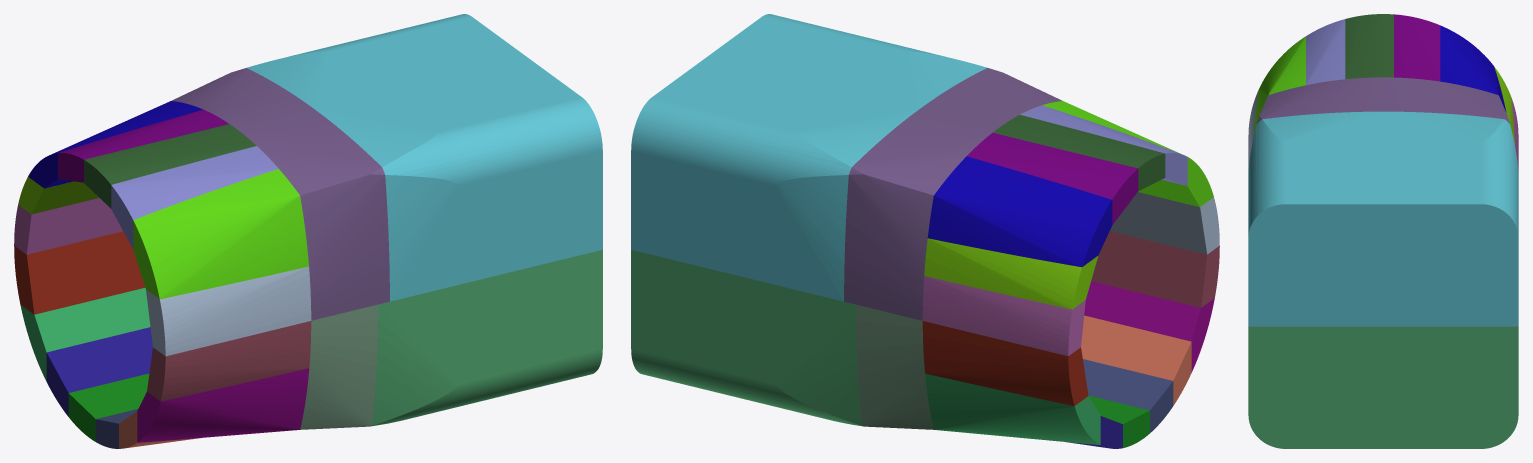
Rendered from 0_canonical.obj.
3 views of the same model, side by side, from view 1: azimuth 30°, elevation 25°; view 2: azimuth 150°, elevation 25°; view 3: azimuth 270°, elevation 25° (orthographic). The views are drawn at different scales.
Visible parts, largest first — view 1: geometry_2, geometry_3, geometry_1, geometry_17, geometry_6, geometry_14, geometry_0, geometry_13, geometry_15, geometry_12, geometry_10, geometry_19 (+8 smaller); view 2: geometry_2, geometry_3, geometry_1, geometry_5, geometry_15, geometry_0, geometry_10, geometry_7, geometry_4, geometry_13, geometry_11, geometry_9 (+8 smaller); view 3: geometry_2, geometry_3, geometry_1, geometry_19, geometry_11, geometry_5, geometry_12, geometry_17, geometry_4, geometry_6.
Boxes of the visible parts, left/top/right/bottom form: geometry_2: left=246, top=14, right=602, bottom=301; geometry_3: left=372, top=249, right=602, bottom=426; geometry_1: left=171, top=68, right=389, bottom=320; geometry_17: left=133, top=169, right=308, bottom=299; geometry_6: left=146, top=266, right=311, bottom=356; geometry_14: left=137, top=368, right=309, bottom=442; geometry_0: left=300, top=304, right=378, bottom=429; geometry_13: left=147, top=321, right=311, bottom=401; geometry_15: left=14, top=231, right=145, bottom=314; geometry_12: left=111, top=146, right=278, bottom=249; geometry_10: left=20, top=288, right=150, bottom=381; geometry_19: left=84, top=124, right=256, bottom=208; geometry_2: left=631, top=14, right=987, bottom=301; geometry_3: left=631, top=249, right=861, bottom=426; geometry_1: left=844, top=68, right=1062, bottom=320; geometry_5: left=927, top=156, right=1112, bottom=267; geometry_15: left=922, top=321, right=1088, bottom=406; geometry_0: left=855, top=304, right=933, bottom=429; geometry_10: left=925, top=373, right=1100, bottom=445; geometry_7: left=922, top=276, right=1085, bottom=356; geometry_4: left=924, top=238, right=1098, bottom=309; geometry_13: left=1091, top=231, right=1219, bottom=307; geometry_11: left=967, top=132, right=1138, bottom=224; geometry_9: left=1081, top=315, right=1191, bottom=405; geometry_2: left=1248, top=111, right=1518, bottom=326; geometry_3: left=1248, top=326, right=1518, bottom=448; geometry_1: left=1257, top=77, right=1509, bottom=123; geometry_19: left=1345, top=14, right=1393, bottom=79; geometry_11: left=1394, top=14, right=1440, bottom=81; geometry_5: left=1440, top=25, right=1506, bottom=112; geometry_12: left=1306, top=19, right=1345, bottom=85; geometry_17: left=1253, top=36, right=1305, bottom=136; geometry_4: left=1494, top=66, right=1514, bottom=144; geometry_6: left=1248, top=90, right=1258, bottom=172.
Size of the model in its own units: 0.03 by 0.018 by 0.018.
